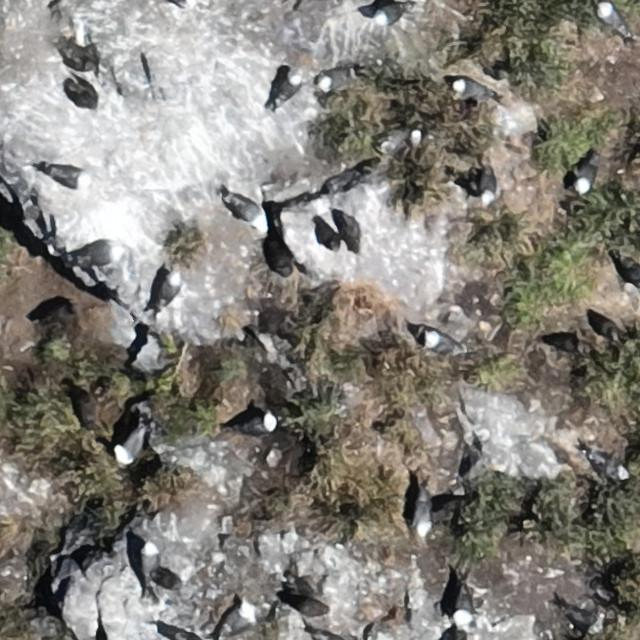umineko: (222, 605, 254, 636), (117, 429, 145, 464), (593, 454, 629, 481), (231, 198, 264, 227), (46, 166, 85, 187), (240, 413, 278, 433), (380, 130, 416, 150), (427, 332, 459, 354), (321, 71, 354, 92), (600, 4, 624, 32), (158, 274, 179, 305), (414, 501, 432, 537), (576, 159, 596, 191), (276, 73, 298, 102), (140, 542, 156, 580), (455, 80, 487, 99), (454, 588, 471, 623), (372, 6, 400, 26), (480, 171, 496, 205), (622, 260, 640, 289), (166, 0, 193, 6)
